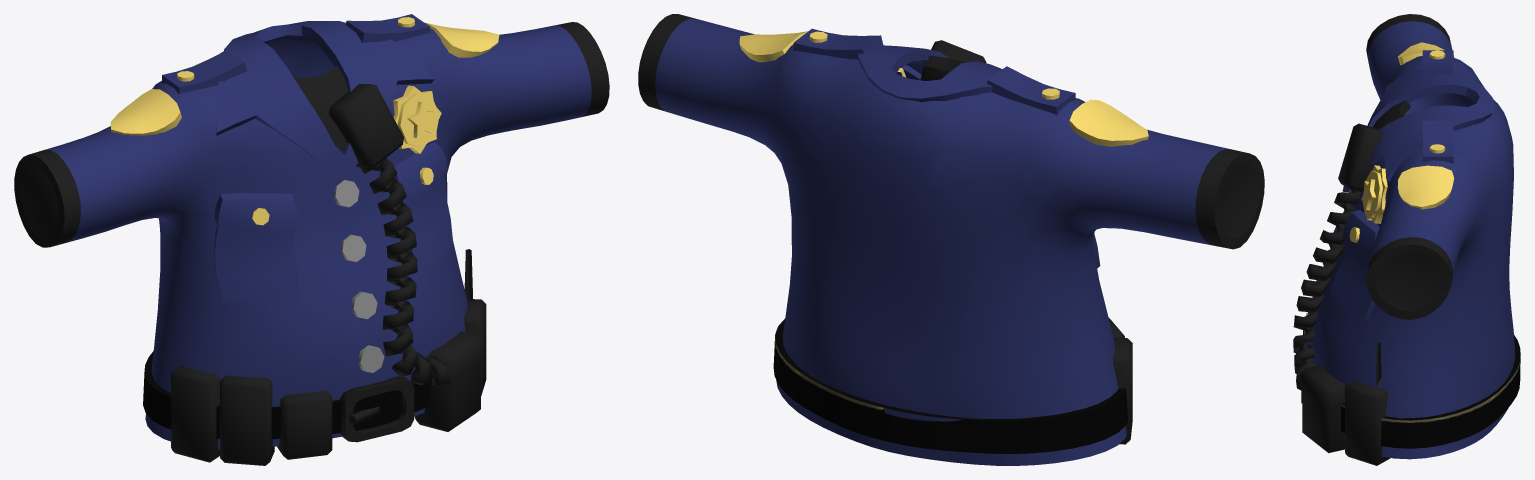
Rendered from 3警套装.fbx.
The picture shows the model from 3 angles, left to right: view 1: azimuth 30°, elevation 25°; view 2: azimuth 150°, elevation 25°; view 3: azimuth 270°, elevation 25°; orthographic projection. The views are drawn at different scales.
Visible parts, largest first — view 1: 3警套装; view 2: 3警套装; view 3: 3警套装.
Part boxes in pixels (<box>): 3警套装: <box>14,14,609,465</box>; 3警套装: <box>638,14,1264,465</box>; 3警套装: <box>1293,14,1520,465</box>.
Size of the model in its own units: 1.08 by 0.6621 by 0.4424.
